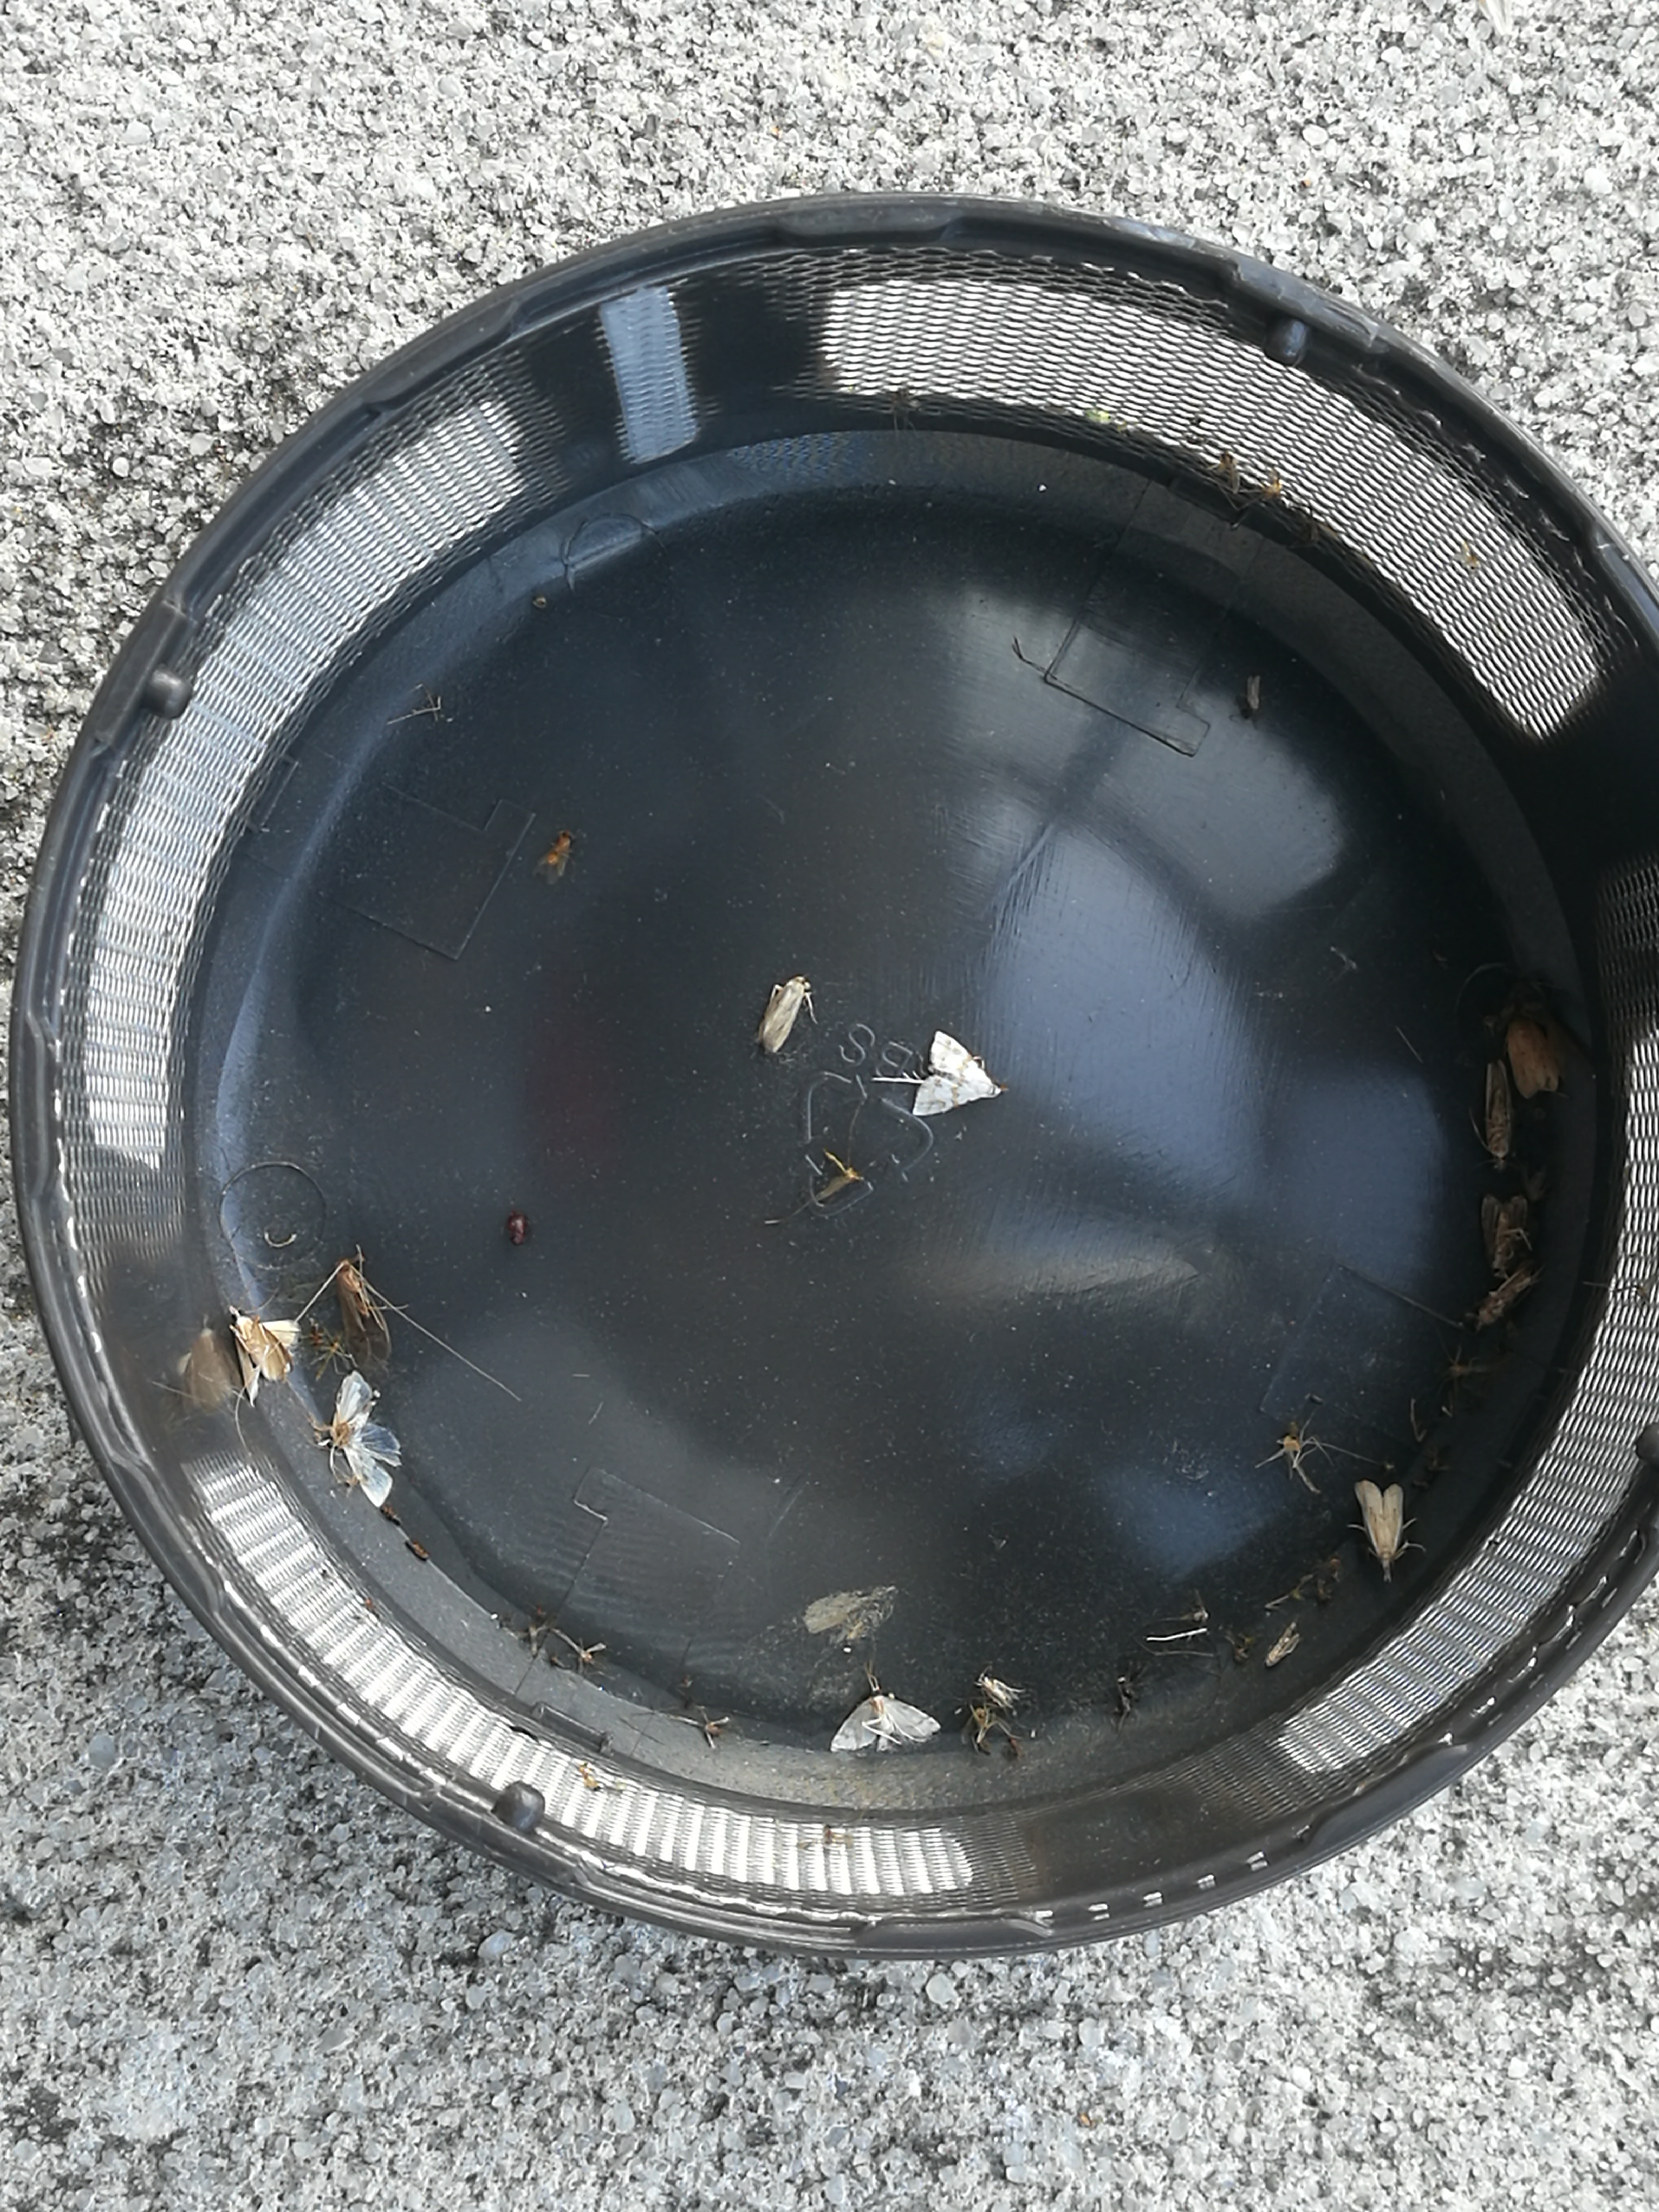mosquito: (336, 1258, 390, 1369), (1476, 1259, 1544, 1324), (760, 975, 807, 1054), (1485, 1061, 1514, 1160), (979, 1674, 1019, 1705)
moth: (329, 1371, 401, 1507), (911, 1029, 999, 1116), (230, 1306, 298, 1406), (831, 1695, 939, 1750), (1356, 1482, 1403, 1566), (1509, 1019, 1556, 1097), (1481, 1195, 1527, 1275)
